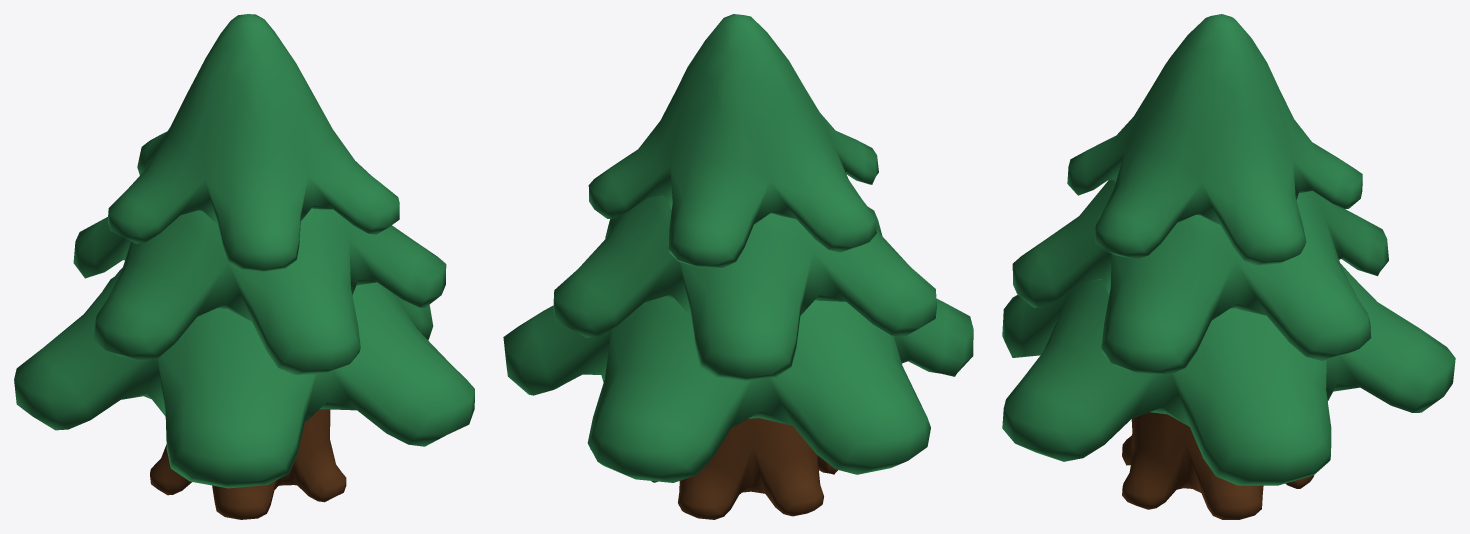
Rendered from Pine.fbx.
3 renders of one model, left to right at view 1: azimuth 30°, elevation 25°; view 2: azimuth 150°, elevation 25°; view 3: azimuth 270°, elevation 25°, orthographic. The views are drawn at different scales.
Parts seen in each view (by area): view 1: PineCime, Pine_trunc; view 2: PineCime, Pine_trunc; view 3: PineCime, Pine_trunc.
Part boxes in pixels (x1,y1,x2,y2): PineCime: [14, 14, 474, 488]; Pine_trunc: [150, 409, 346, 519]; PineCime: [503, 14, 973, 482]; Pine_trunc: [651, 418, 837, 519]; PineCime: [1002, 14, 1455, 485]; Pine_trunc: [1122, 412, 1314, 519].
Bounding box in the file's own units: 2.16 × 2.4 × 2.1.
